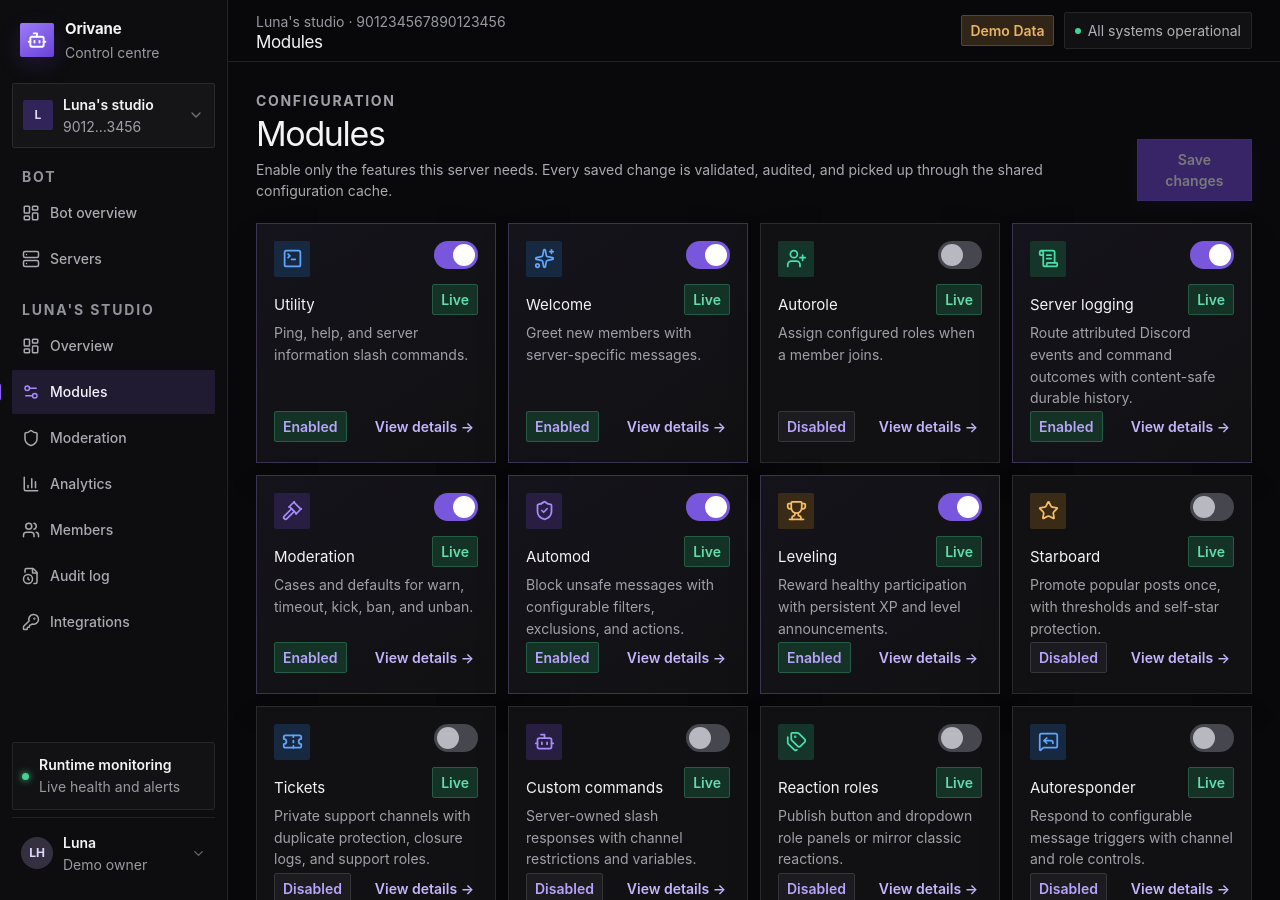
it: module configuration pages › lists every module, toggles one, and persists the changed configuration
Click the switch named "Enable Autorole": (960, 255) left=938, top=241, right=982, bottom=269
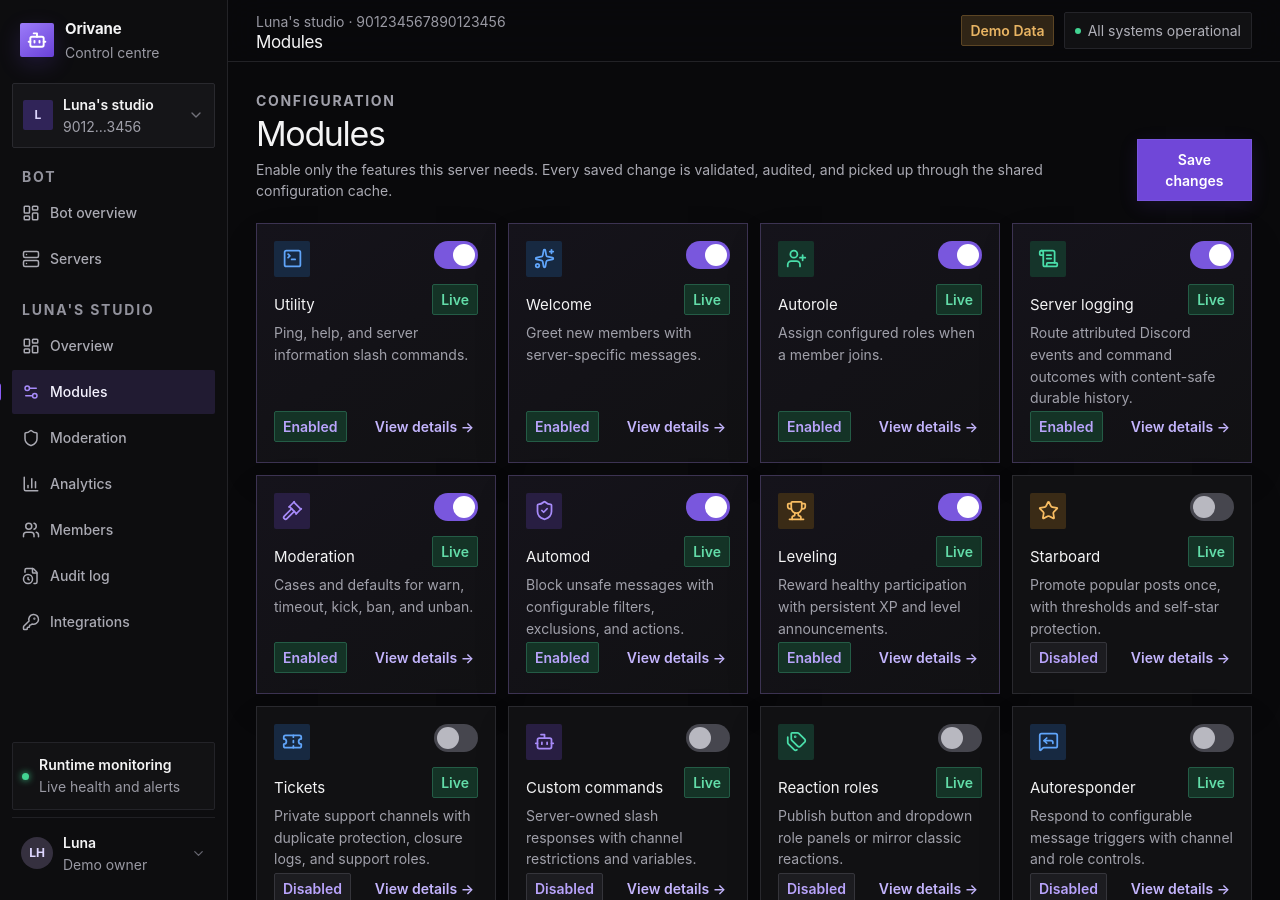
Now the button "Save changes" is enabled
Click the button "Save changes": (1194, 170) left=1137, top=139, right=1252, bottom=201
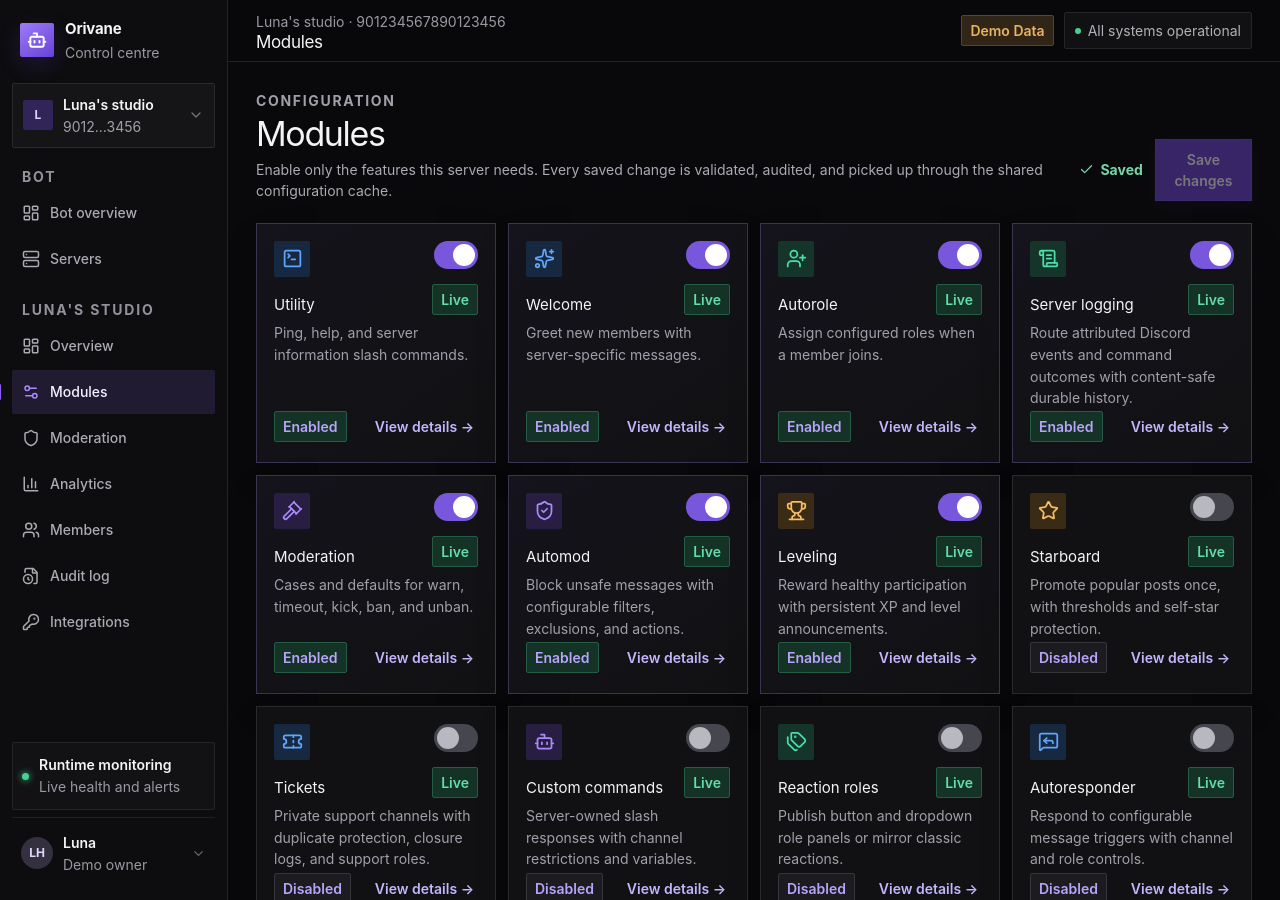
Now the text "Saved" is shown, box left=1079, top=159, right=1143, bottom=180
